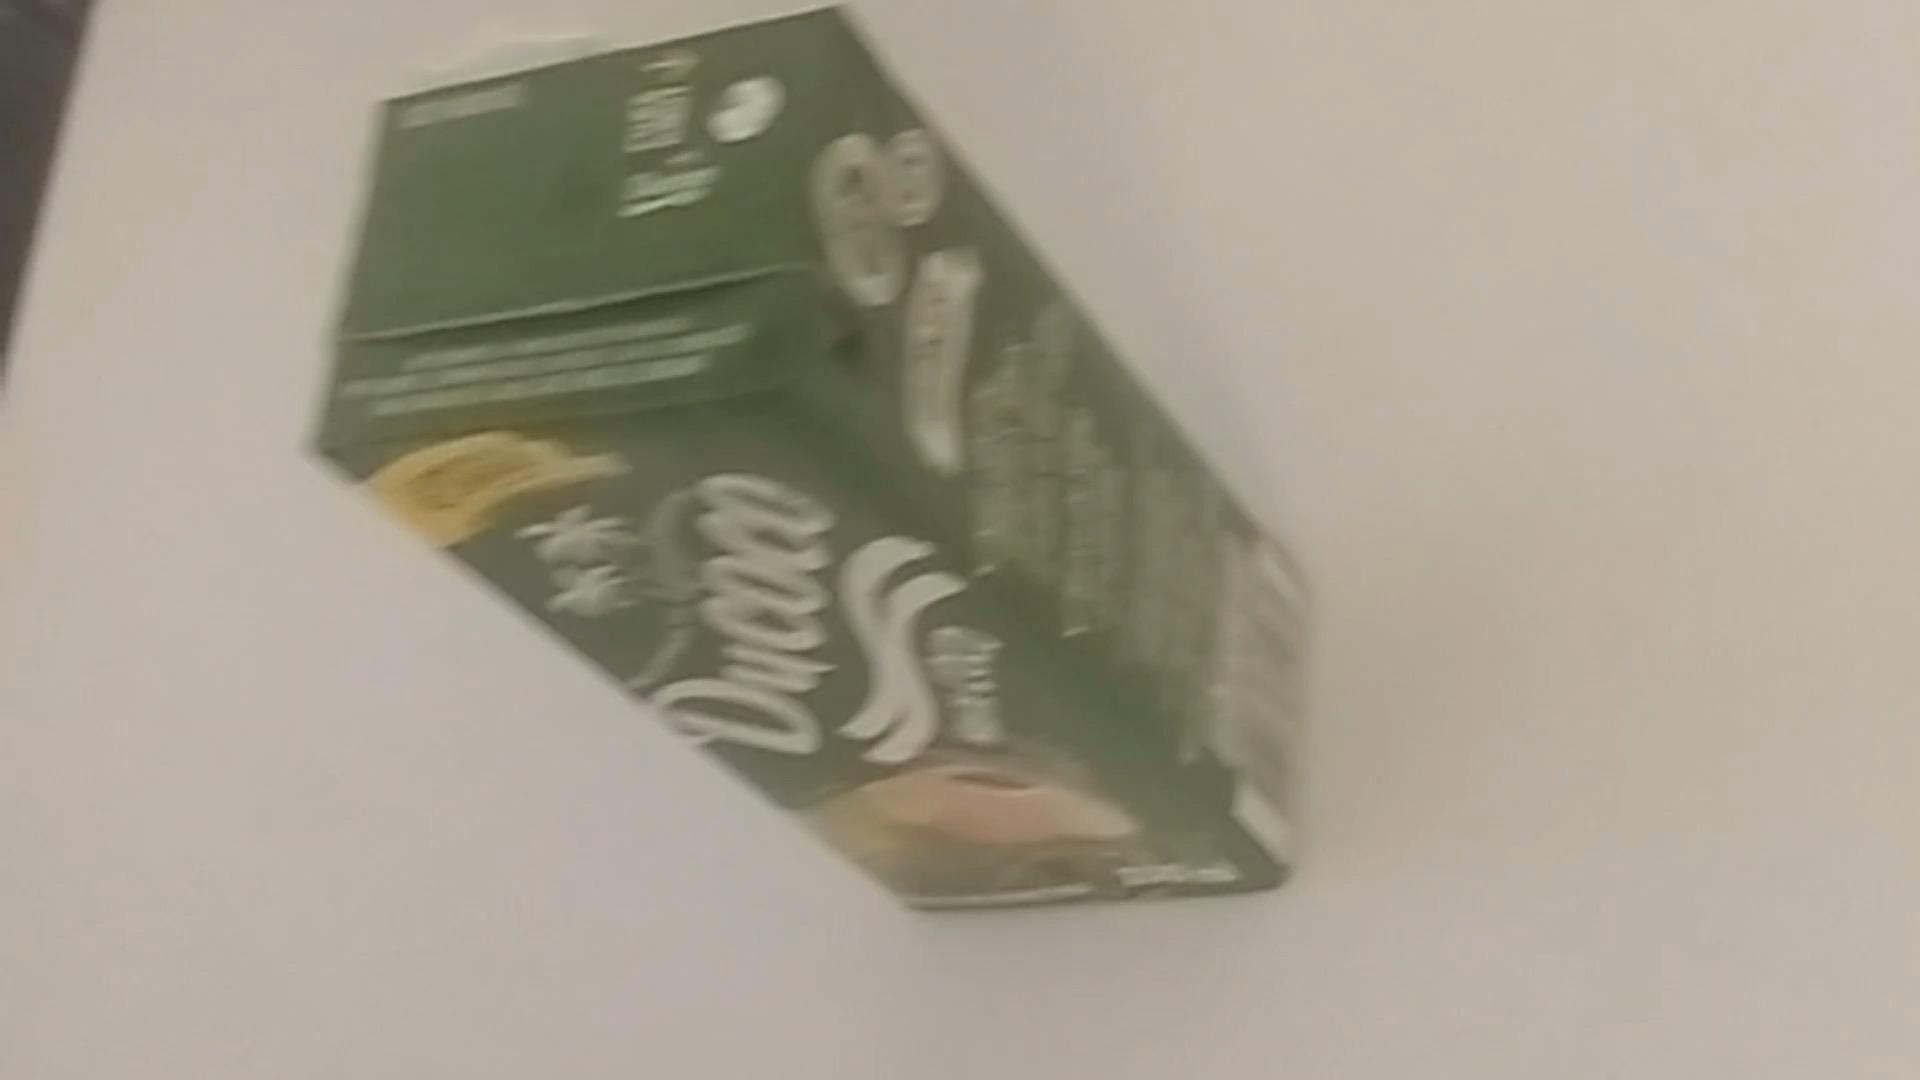coco: (307, 3, 1307, 924)
